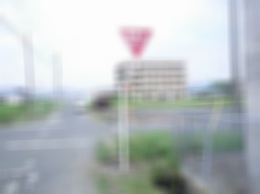Regulatory_sign_triangle: (117, 24, 158, 67)
